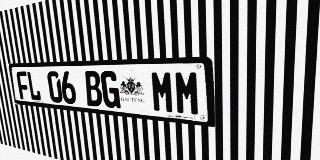0: (46, 71, 63, 103)
6: (59, 71, 77, 105)
B: (84, 71, 103, 107)
F: (16, 71, 30, 100)
G: (100, 71, 121, 109)
L: (26, 71, 42, 101)
M: (174, 70, 201, 116), (150, 71, 175, 114)
